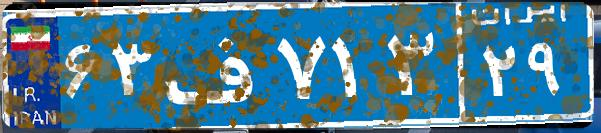1: (330, 28, 385, 110)
2: (475, 38, 525, 113)
3: (385, 28, 445, 110), (110, 28, 158, 105)
6: (57, 26, 110, 107)
7: (273, 28, 330, 110)
9: (525, 38, 570, 115)
ف: (158, 15, 273, 115)
